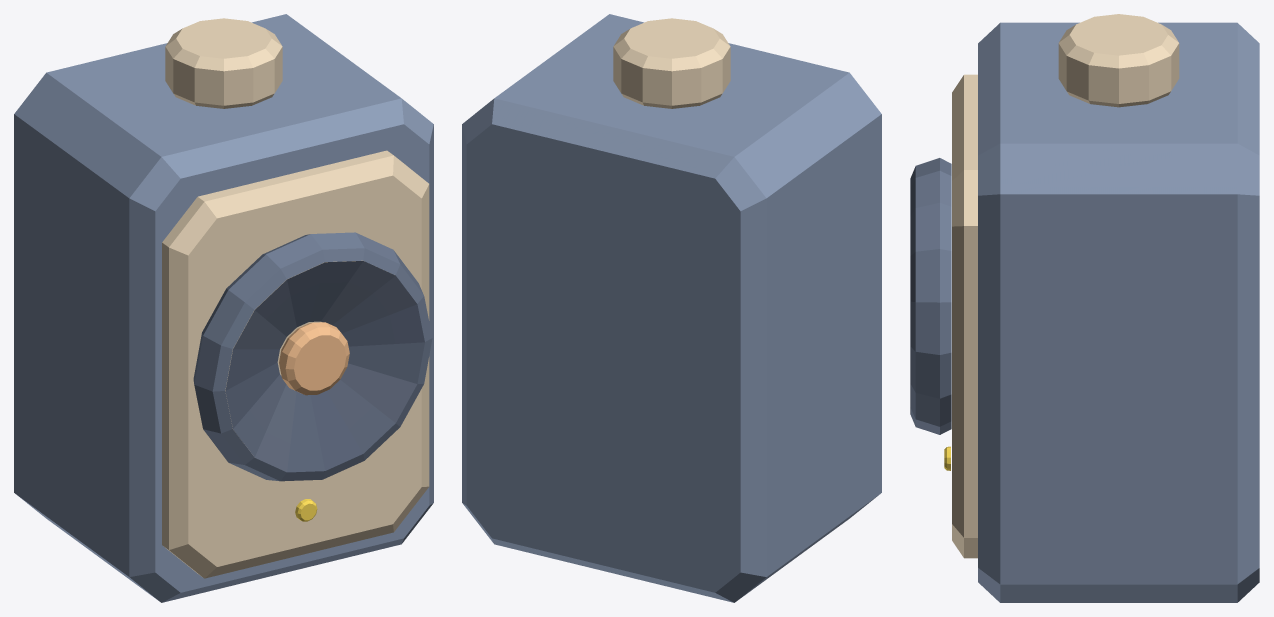
File: speaker.glb
3 views of the same model, side by side, from view 1: azimuth 30°, elevation 25°; view 2: azimuth 150°, elevation 25°; view 3: azimuth 270°, elevation 25° (orthographic). The views are drawn at different scales.
Visible parts, largest first — view 1: 01 灰蓝切角箱体; view 2: 01 灰蓝切角箱体; view 3: 01 灰蓝切角箱体.
Boxes of the visible parts, <box> form: 01 灰蓝切角箱体: <box>14,14,433,602</box>; 01 灰蓝切角箱体: <box>462,14,881,602</box>; 01 灰蓝切角箱体: <box>910,14,1259,602</box>.
Size of the model in its own units: 1.8 by 2.79 by 1.74.
